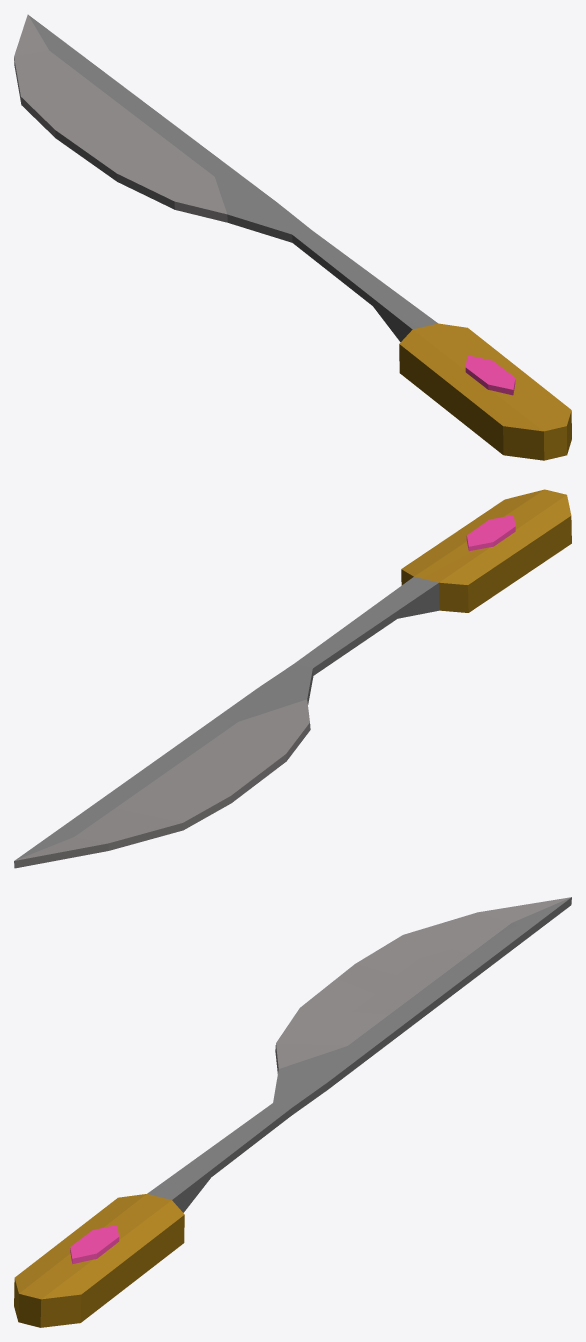
Rendered from Knife_01.glb.
3 views of the same model, one above another, from view 1: azimuth 30°, elevation 25°; view 2: azimuth 150°, elevation 25°; view 3: azimuth 330°, elevation 25° (orthographic). The views are drawn at different scales.
Parts seen in each view (by area): view 1: Knife_01; view 2: Knife_01; view 3: Knife_01.
Boxes of the visible parts, x1,y1,x2,y2 form: Knife_01: (14, 14, 571, 460); Knife_01: (14, 489, 571, 868); Knife_01: (14, 897, 571, 1327).
Size of what is drawn, in the model's own units: 0.0515 by 0.0199 by 0.4036.
1 material, 1 textured.
